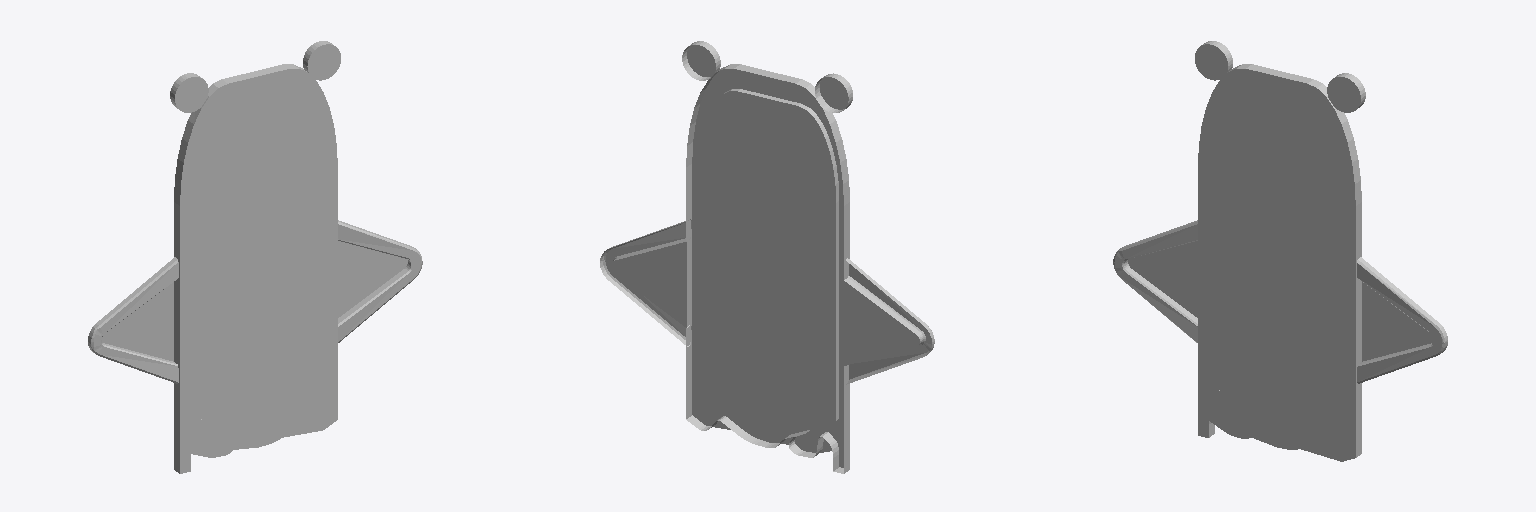
The model's file is SetA_WallSymbol_Style_05.obj.
The picture shows the model from 3 angles: view 1: azimuth 30°, elevation 25°; view 2: azimuth 150°, elevation 25°; view 3: azimuth 330°, elevation 25°; orthographic projection.
Visible parts, largest first — view 1: SetA_WallSymbol_Style_05; view 2: SetA_WallSymbol_Style_05; view 3: SetA_WallSymbol_Style_05.
Boxes of the visible parts, box(x1,y1,x2,y2) form: SetA_WallSymbol_Style_05: box(88, 41, 422, 473); SetA_WallSymbol_Style_05: box(600, 41, 934, 473); SetA_WallSymbol_Style_05: box(1113, 41, 1447, 461).
Size of the model in its own units: 0.261 by 0.2953 by 0.0084.